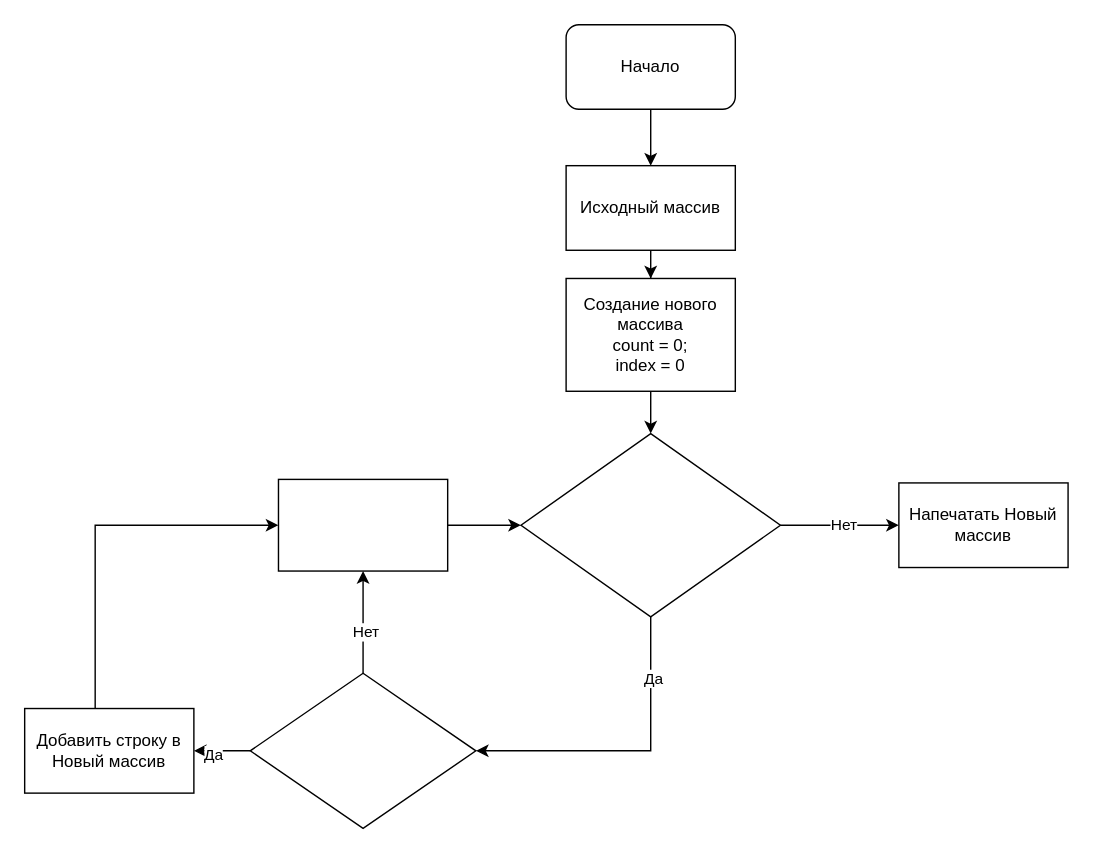
Image size: 1093x853. Some labels were removed from this diagram. The shapes that lost their labels are listed below. From the top down, each one's centre as x and y in pixels, then its label:
At pixel 362 524: "count = count + 1 index = index+ 1".
At pixel 650 524: "Проверка длины массива i < Длины массива".
At pixel 362 750: "Проверка длины строки <= 3".
